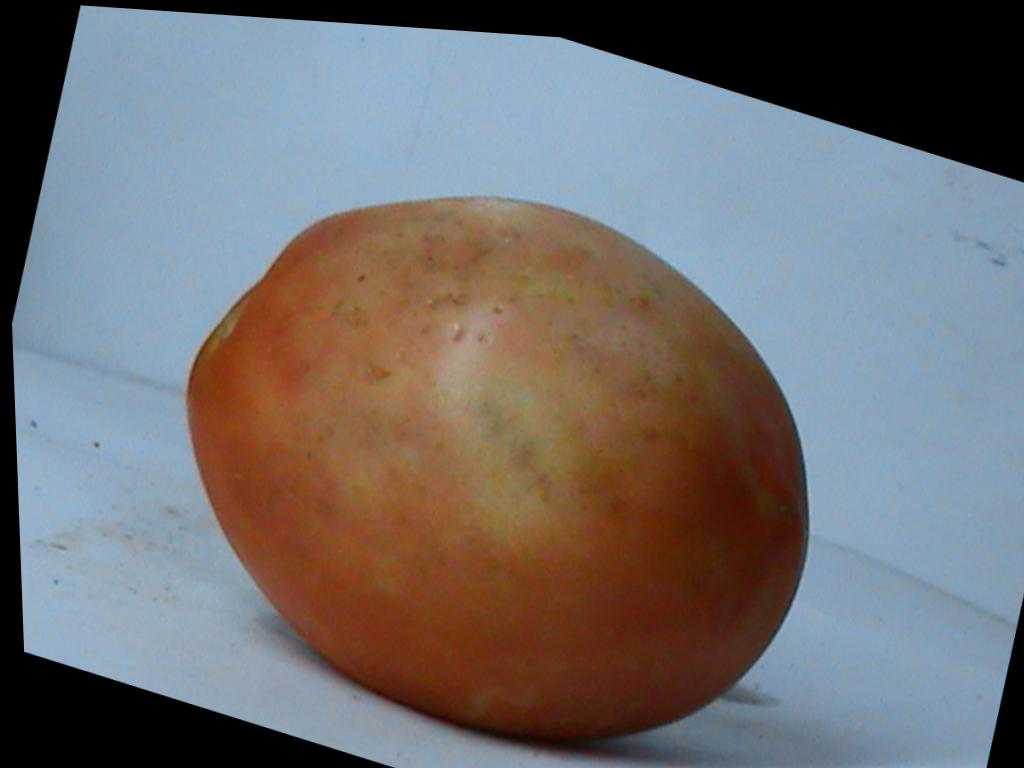bruise_discoloration: (282, 201, 774, 593)
tomato: (189, 200, 808, 738)
